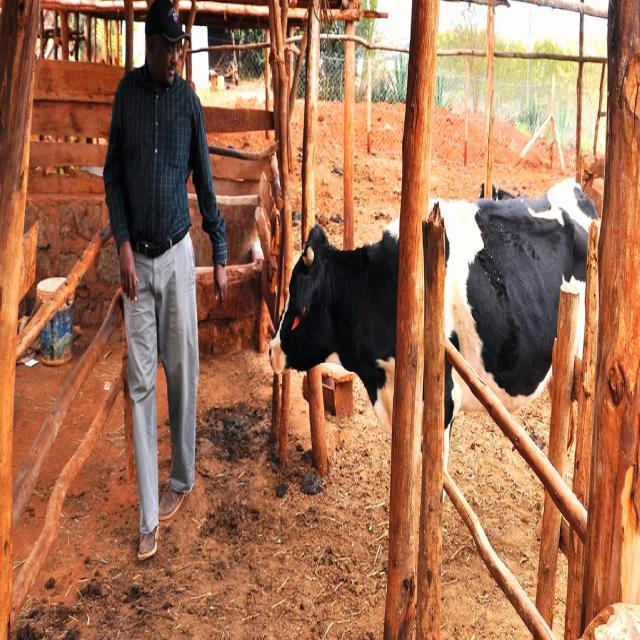Cattle: (268, 175, 602, 505)
